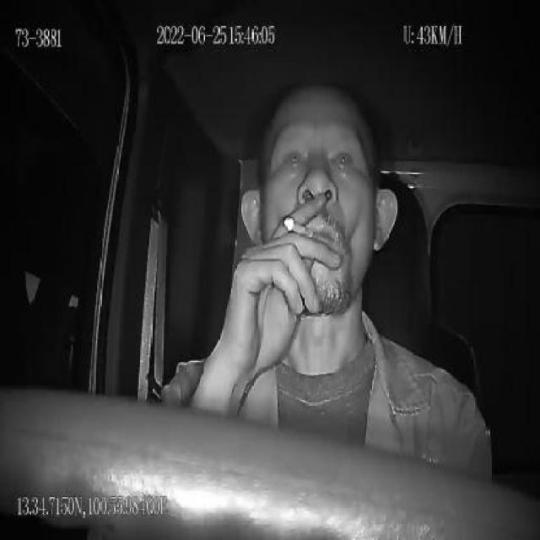smoking: (283, 216, 315, 240)
